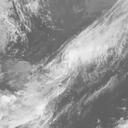cyclone: (42, 43, 89, 91)
